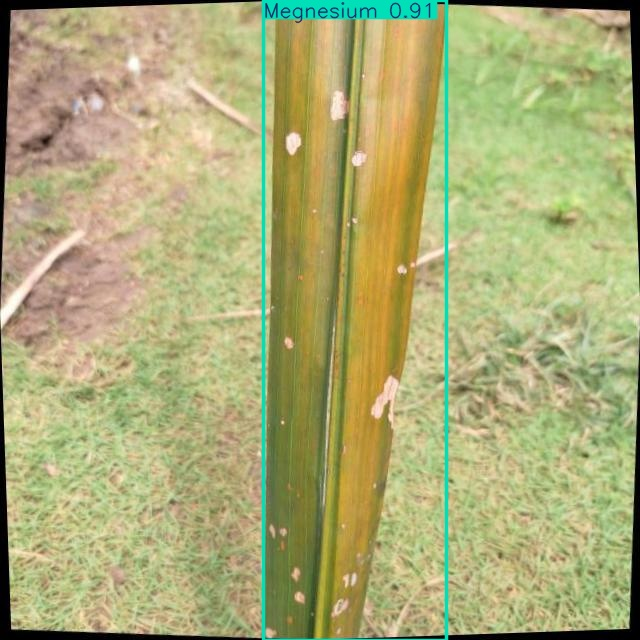Megnesium: (263, 0, 446, 640)
